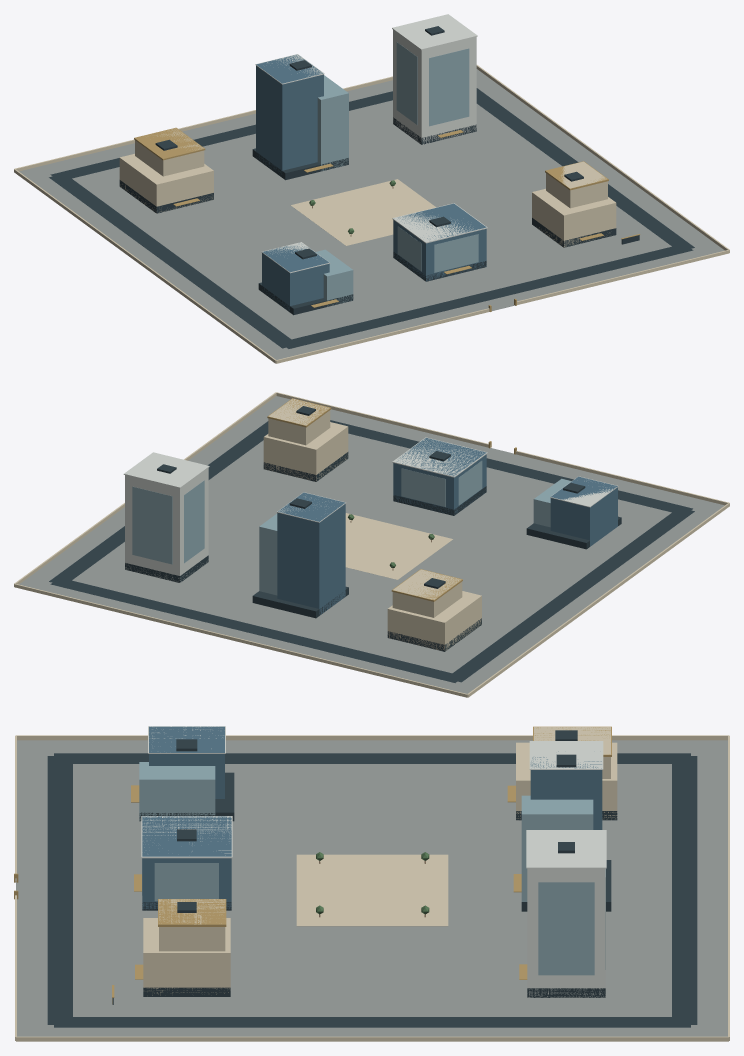
Rendered from GC-TILE-13-04.glb.
3 views of the same model, one above another, from view 1: azimuth 30°, elevation 25°; view 2: azimuth 150°, elevation 25°; view 3: azimuth 270°, elevation 25° (orthographic). The views are drawn at different scales.
Parts seen in each view (by area): view 1: GC-TILE-13-04-paving, GC-TILE-13-04-ivory, GC-TILE-13-04-dark, GC-TILE-13-04-blue, GC-TILE-13-04-glass, GC-TILE-13-04-white, GC-TILE-13-04-gold; view 2: GC-TILE-13-04-paving, GC-TILE-13-04-ivory, GC-TILE-13-04-dark, GC-TILE-13-04-blue, GC-TILE-13-04-glass, GC-TILE-13-04-white, GC-TILE-13-04-gold; view 3: GC-TILE-13-04-paving, GC-TILE-13-04-dark, GC-TILE-13-04-ivory, GC-TILE-13-04-glass, GC-TILE-13-04-white, GC-TILE-13-04-blue, GC-TILE-13-04-gold.
Boxes of the visible parts, x1,y1,x2,y2 form: GC-TILE-13-04-paving: (19,69,724,359); GC-TILE-13-04-ivory: (14,65,729,363); GC-TILE-13-04-dark: (49,26,694,348); GC-TILE-13-04-blue: (256,54,486,311); GC-TILE-13-04-glass: (316,42,478,306); GC-TILE-13-04-white: (255,14,487,273); GC-TILE-13-04-gold: (134,127,640,311); GC-TILE-13-04-paving: (19,396,724,693); GC-TILE-13-04-ivory: (14,392,729,697); GC-TILE-13-04-dark: (49,406,694,682); GC-TILE-13-04-blue: (277,438,617,614); GC-TILE-13-04-glass: (132,461,571,595); GC-TILE-13-04-white: (123,437,618,582); GC-TILE-13-04-gold: (267,398,516,601); GC-TILE-13-04-paving: (16,740,727,1036); GC-TILE-13-04-dark: (47,730,697,1027); GC-TILE-13-04-ivory: (15,727,729,1041); GC-TILE-13-04-glass: (139,762,605,975); GC-TILE-13-04-white: (141,726,606,997); GC-TILE-13-04-blue: (142,726,602,910); GC-TILE-13-04-gold: (14,726,611,1003).
Bounding box in the file's own units: 339 × 69.92 × 340.
